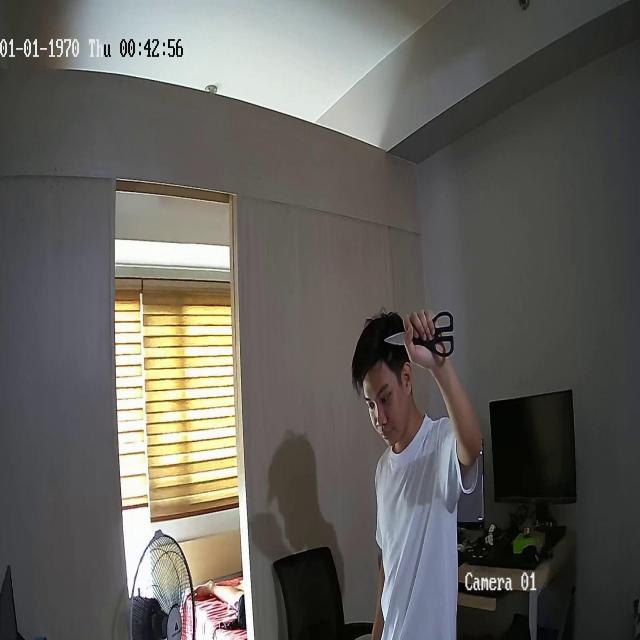scissor: (385, 310, 454, 358)
